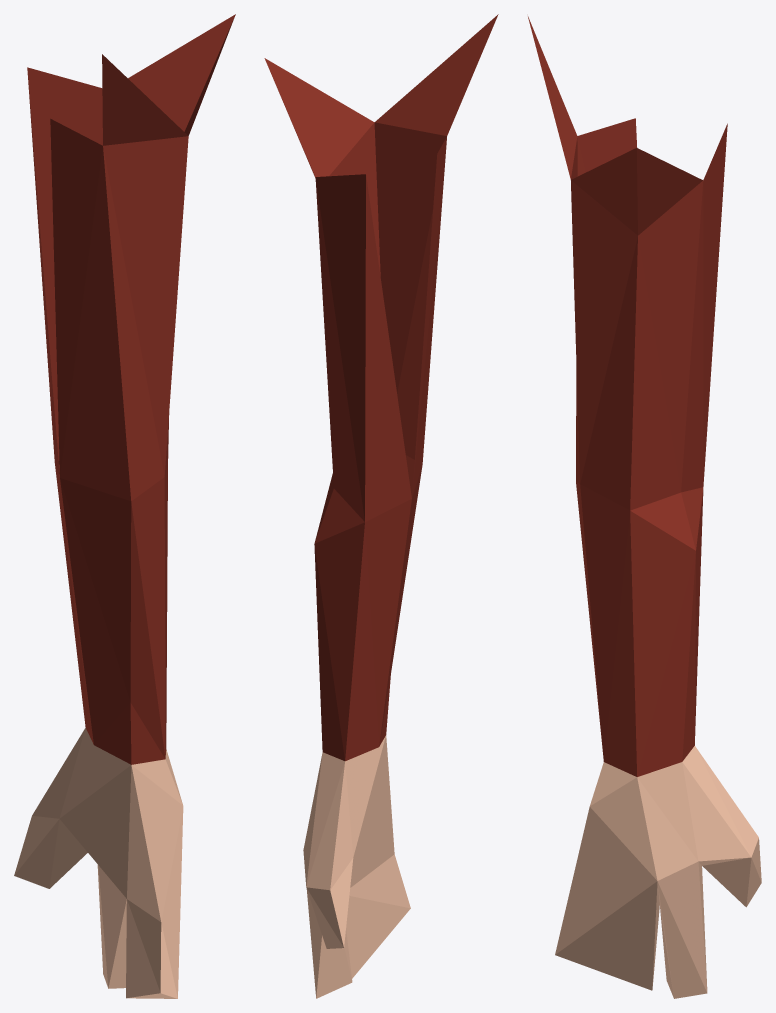
File: ArmR_Lo.obj
The picture shows the model from 3 angles, left to right: view 1: azimuth 30°, elevation 25°; view 2: azimuth 150°, elevation 25°; view 3: azimuth 270°, elevation 25°; orthographic projection. The views are drawn at different scales.
Bounding box in the file's own units: 0.1832 × 0.9219 × 0.2092.
1 material, 1 textured.
